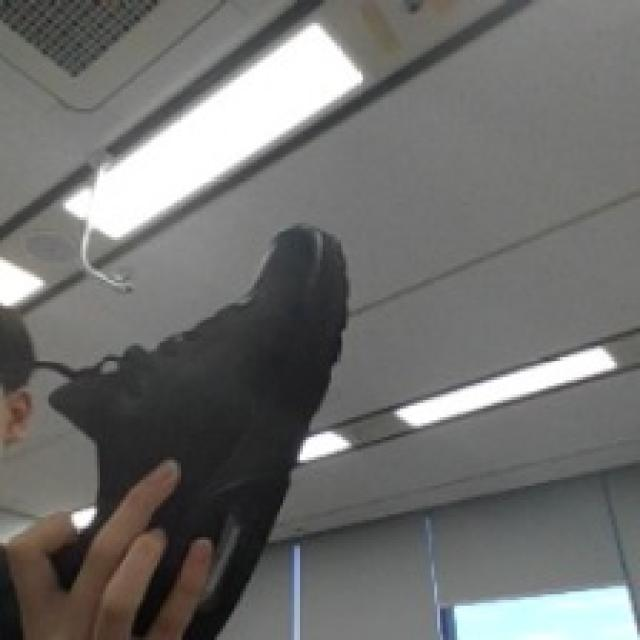shoe: (46, 223, 357, 640)
